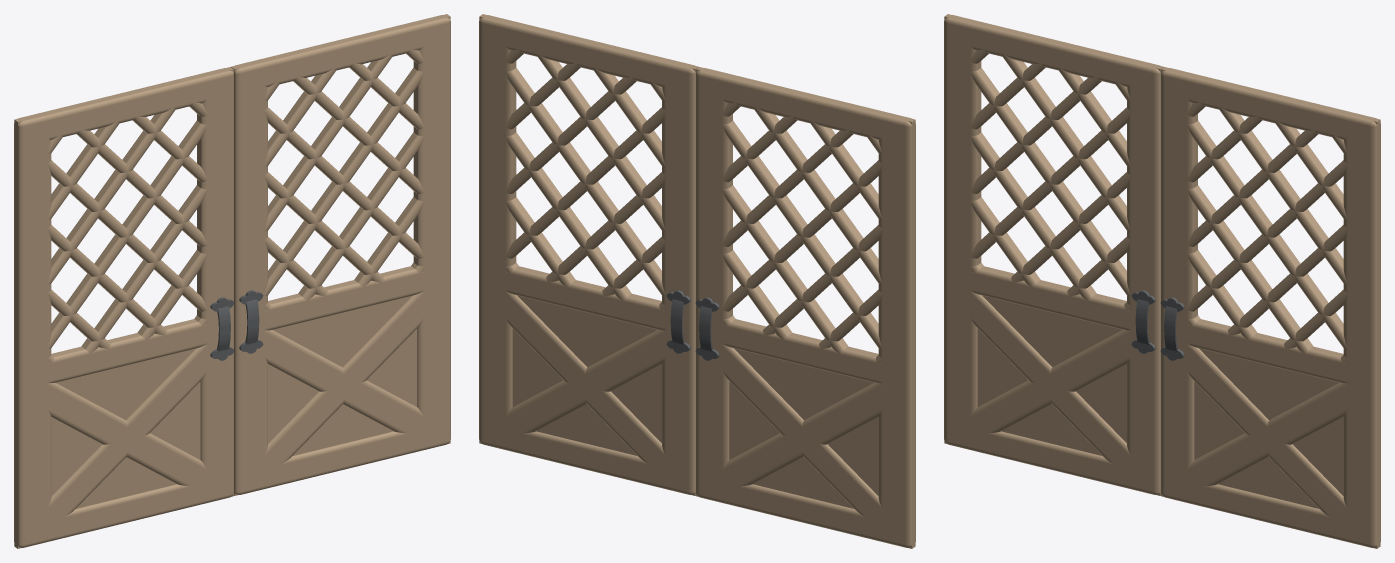
File: door.glb
The picture shows the model from 3 angles, left to right: view 1: azimuth 30°, elevation 25°; view 2: azimuth 150°, elevation 25°; view 3: azimuth 330°, elevation 25°; orthographic projection.
Parts seen in each view (by area): view 1: Mesh_Mesh_head_geo.001_lambert2SG.001; view 2: Mesh_Mesh_head_geo.001_lambert2SG.001; view 3: Mesh_Mesh_head_geo.001_lambert2SG.001.
Part boxes in pixels (x1,y1,x2,y2): Mesh_Mesh_head_geo.001_lambert2SG.001: [14, 14, 450, 548]; Mesh_Mesh_head_geo.001_lambert2SG.001: [479, 14, 915, 548]; Mesh_Mesh_head_geo.001_lambert2SG.001: [944, 14, 1380, 548].
Bounding box in the file's own units: 0.0679 × 0.064 × 0.00382.
